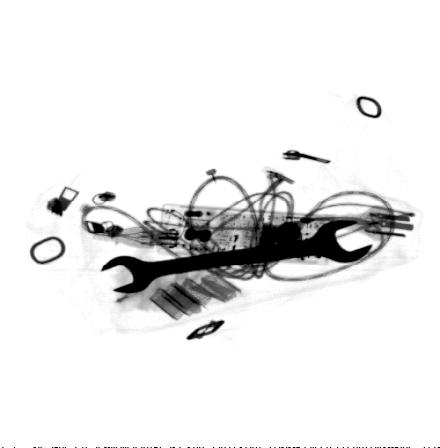Wrench: (100, 218, 375, 296)
